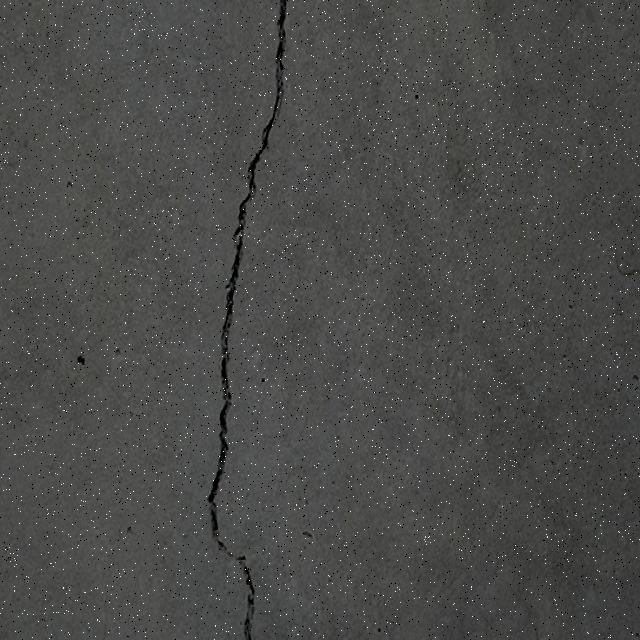crack: (205, 1, 289, 637), (254, 0, 371, 180), (238, 4, 291, 219), (401, 67, 490, 175), (45, 176, 120, 231), (64, 346, 143, 393), (210, 420, 232, 520)
